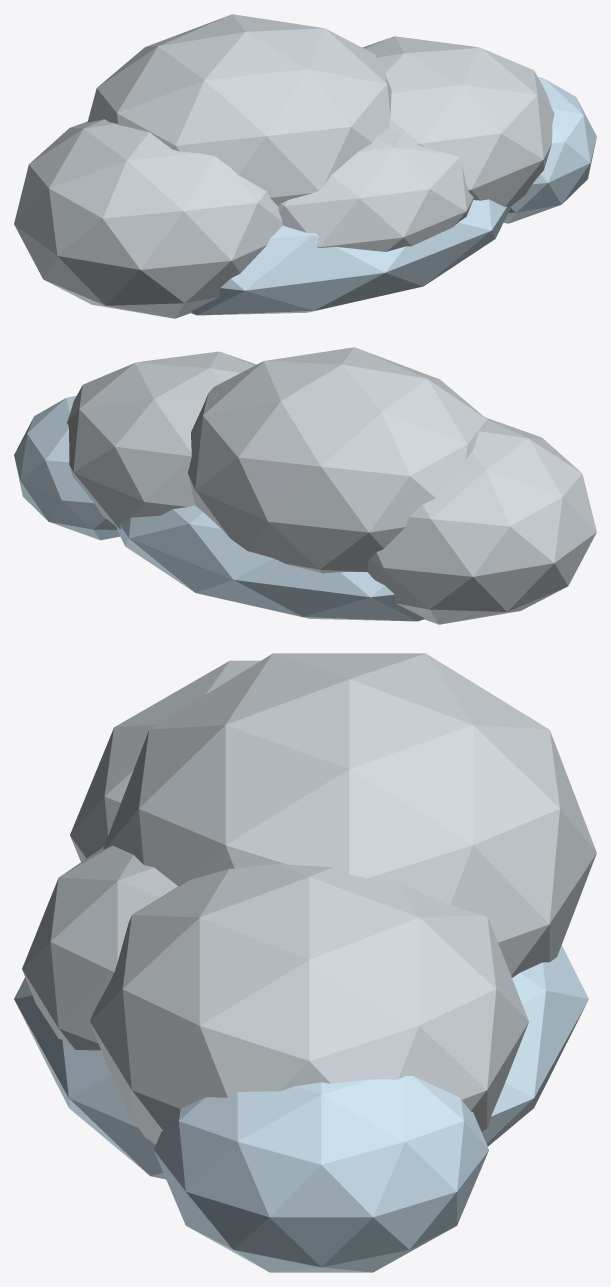
The model's file is mdl_env_cloud_shelf.glb.
The picture shows the model from 3 angles, top to bottom: view 1: azimuth 30°, elevation 25°; view 2: azimuth 150°, elevation 25°; view 3: azimuth 270°, elevation 25°; orthographic projection. The views are drawn at different scales.
Parts seen in each view (by area): view 1: Cloud puff.001, Cloud puff.002, Cloud puff.003, Cloud puff, Cloud puff.005, Cloud puff.004; view 2: Cloud puff.002, Cloud puff.001, Cloud puff.003, Cloud puff, Cloud puff.004; view 3: Cloud puff.002, Cloud puff.003, Cloud puff.004, Cloud puff, Cloud puff.005, Cloud puff.001.
Boxes of the visible parts, left/top/right/bottom form: Cloud puff.001: left=14, top=119, right=282, bottom=318; Cloud puff.002: left=87, top=14, right=391, bottom=205; Cloud puff.003: left=362, top=36, right=554, bottom=208; Cloud puff: left=190, top=199, right=510, bottom=315; Cloud puff.005: left=278, top=128, right=473, bottom=251; Cloud puff.004: left=503, top=77, right=596, bottom=223; Cloud puff.002: left=188, top=347, right=488, bottom=573; Cloud puff.001: left=367, top=417, right=596, bottom=624; Cloud puff.003: left=67, top=351, right=256, bottom=529; Cloud puff: left=116, top=505, right=424, bottom=621; Cloud puff.004: left=14, top=396, right=119, bottom=540; Cloud puff.002: left=103, top=653, right=596, bottom=977; Cloud puff.003: left=90, top=863, right=528, bottom=1144; Cloud puff.004: left=154, top=1076, right=488, bottom=1272; Cloud puff: left=14, top=945, right=588, bottom=1179; Cloud puff.005: left=22, top=845, right=177, bottom=1050; Cloud puff.001: left=70, top=660, right=260, bottom=861.
Size of the model in its own units: 2.63 by 1.14 by 1.46.
